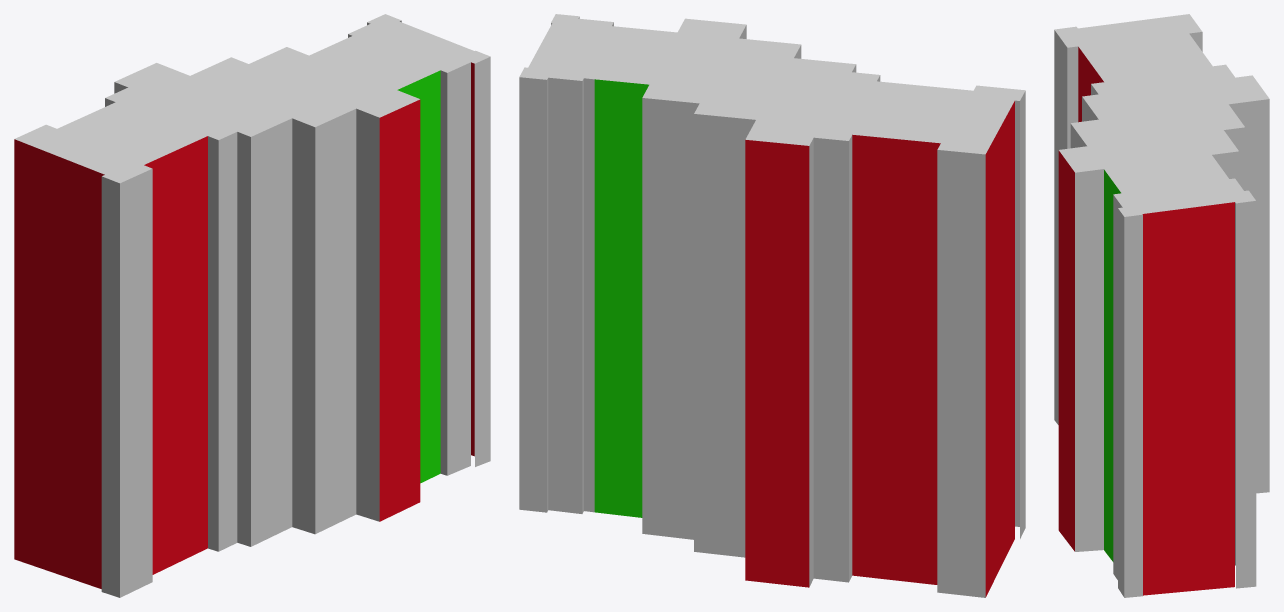
Rendered from building_006_1.fbx.
The picture shows the model from 3 angles, left to right: view 1: azimuth 30°, elevation 25°; view 2: azimuth 150°, elevation 25°; view 3: azimuth 270°, elevation 25°; orthographic projection. The views are drawn at different scales.
Visible parts, largest first — view 1: Areas:building.006; view 2: Areas:building.006; view 3: Areas:building.006.
Part boxes in pixels (box(x1,y1,x2,y2)): Areas:building.006: box(14, 14, 490, 597); Areas:building.006: box(519, 14, 1025, 597); Areas:building.006: box(1054, 14, 1269, 597).
Size of the model in its own units: 2907 by 2641 by 1304.
